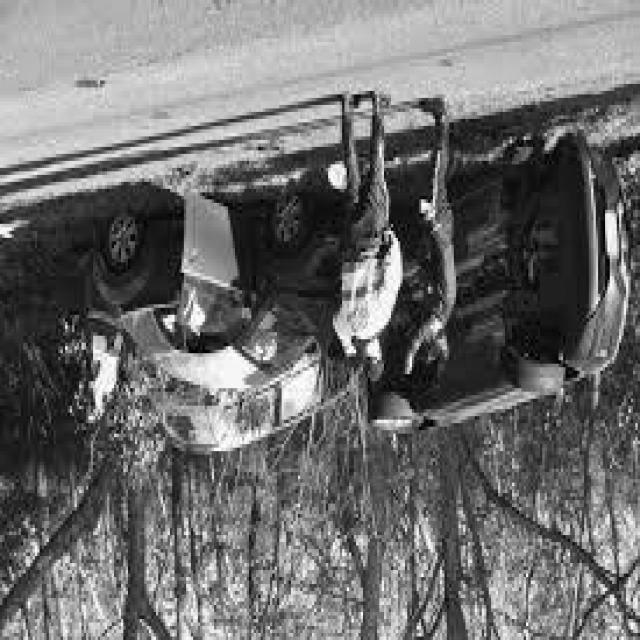severe: (83, 138, 632, 484)
